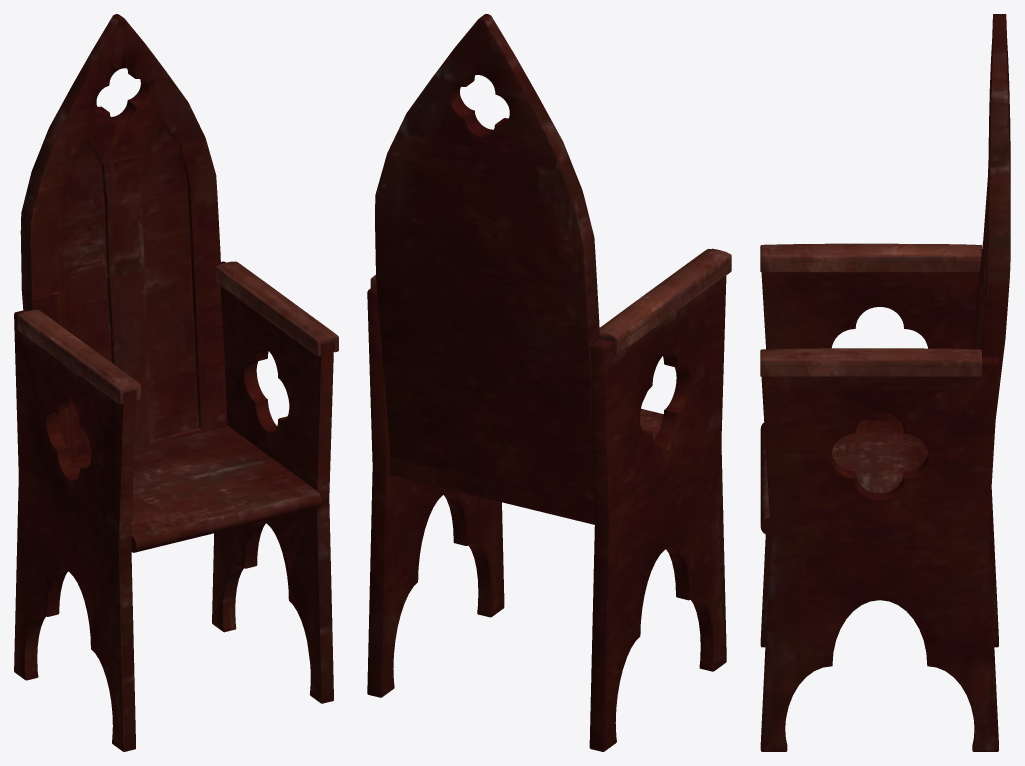
File: chair.glb
3 renders of one model, left to right at view 1: azimuth 30°, elevation 25°; view 2: azimuth 150°, elevation 25°; view 3: azimuth 270°, elevation 25°, orthographic. The views are drawn at different scales.
Visible parts, largest first — view 1: Object_6; view 2: Object_6; view 3: Object_6.
Boxes of the visible parts, x1=… form: Object_6: x1=14, y1=14, x2=338, y2=751; Object_6: x1=367, y1=14, x2=731, y2=751; Object_6: x1=760, y1=14, x2=1010, y2=751.
Size of the model in its own units: 55 by 150 by 50.01.
1 material, 1 textured.
